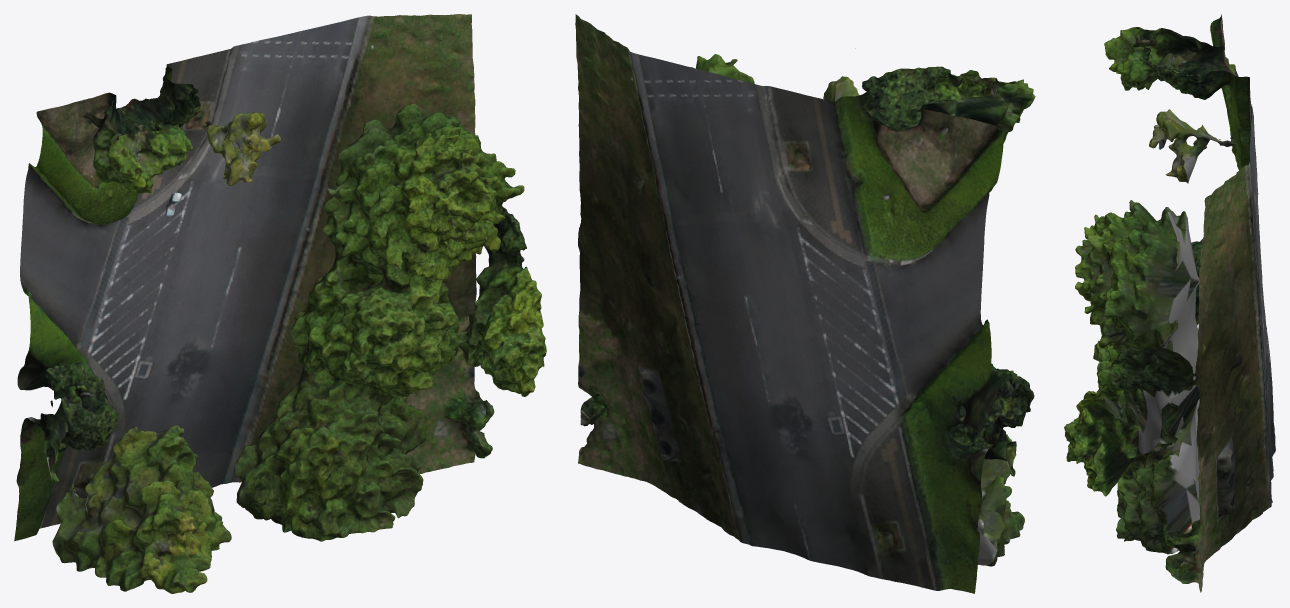
File: Tile_+015_+018.fbx
3 views of the same model, side by side, from view 1: azimuth 30°, elevation 25°; view 2: azimuth 150°, elevation 25°; view 3: azimuth 270°, elevation 25° (orthographic). The views are drawn at different scales.
Parts seen in each view (by area): view 1: DefaultName; view 2: DefaultName; view 3: DefaultName.
Part boxes in pixels (x1=…): DefaultName: x1=14, y1=14, x2=546, y2=593; DefaultName: x1=575, y1=14, x2=1035, y2=593; DefaultName: x1=1064, y1=14, x2=1275, y2=592.
Size of the model in its own units: 22.54 by 22.54 by 10.94.
